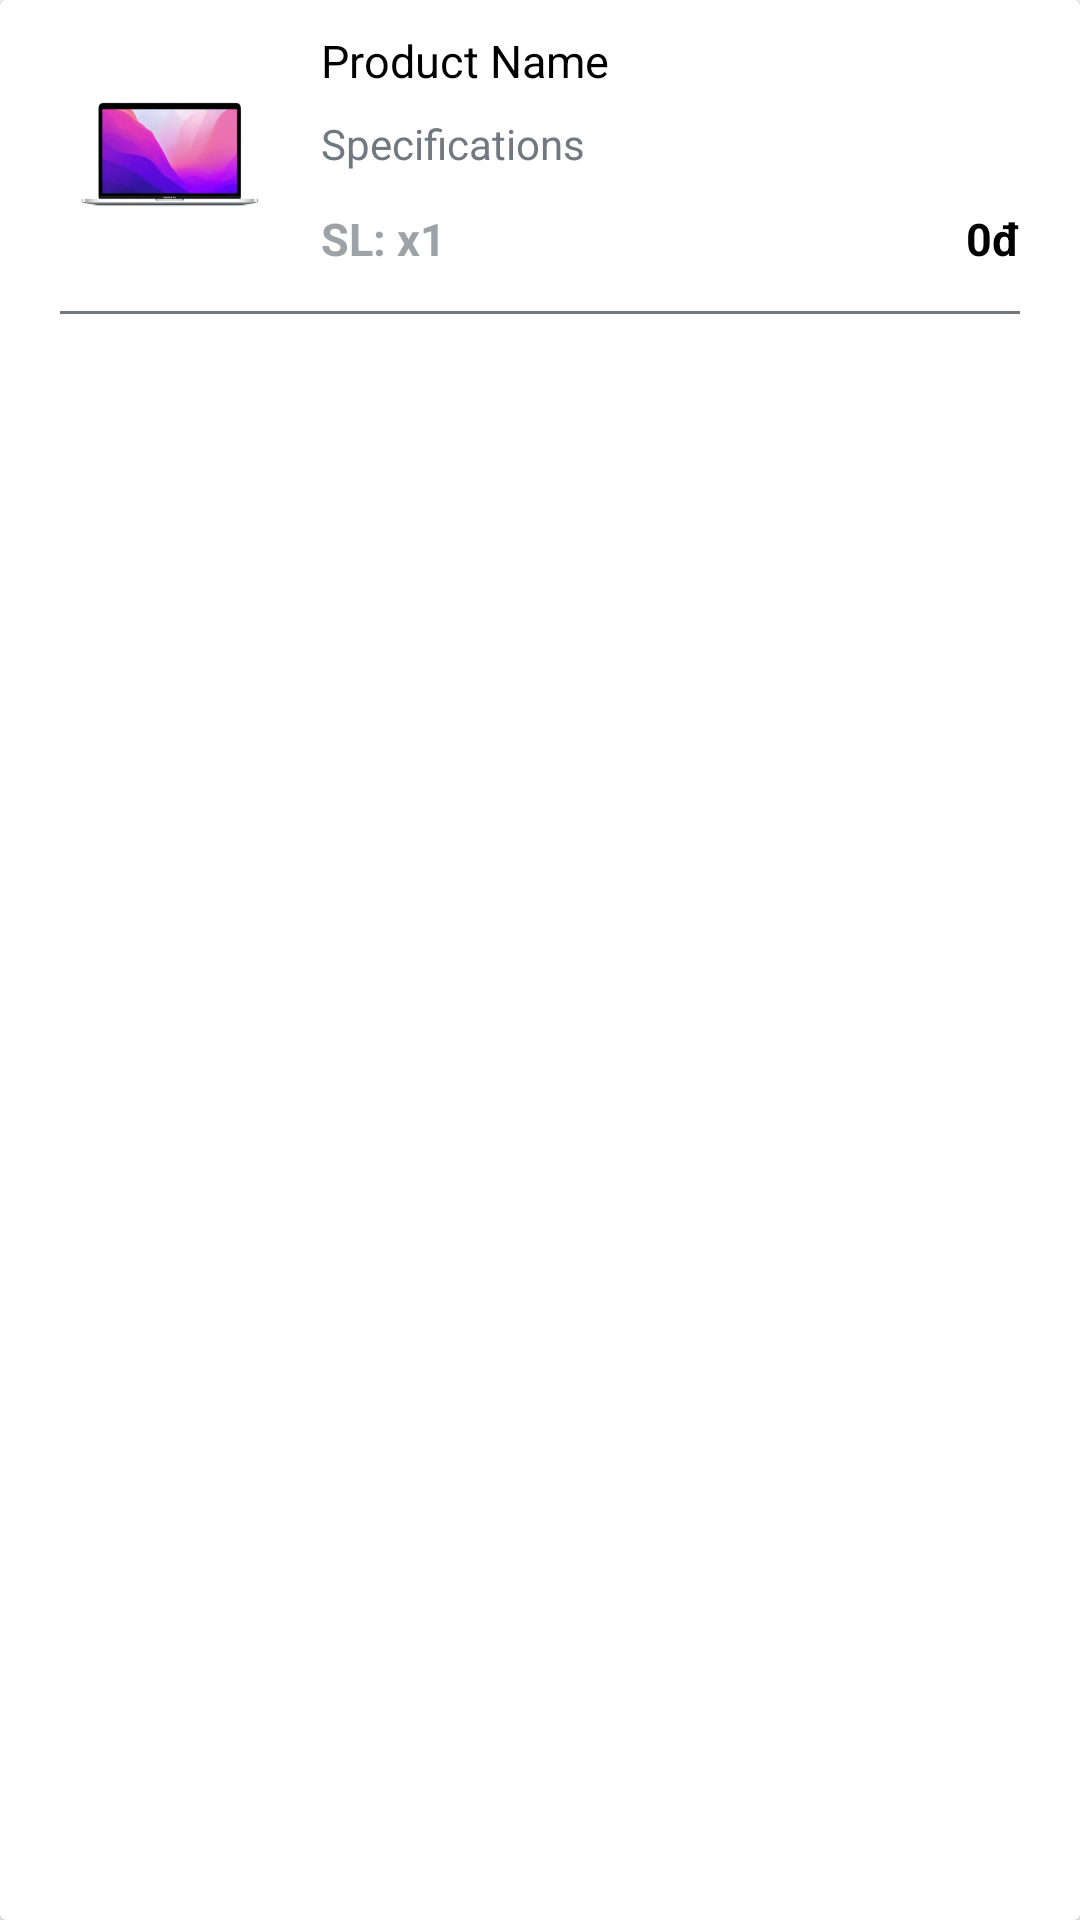

Screen size 1080w x 1920h. Icon name, then its center in pixels as (x=x, y=y):
macbook: (x=169, y=154)
